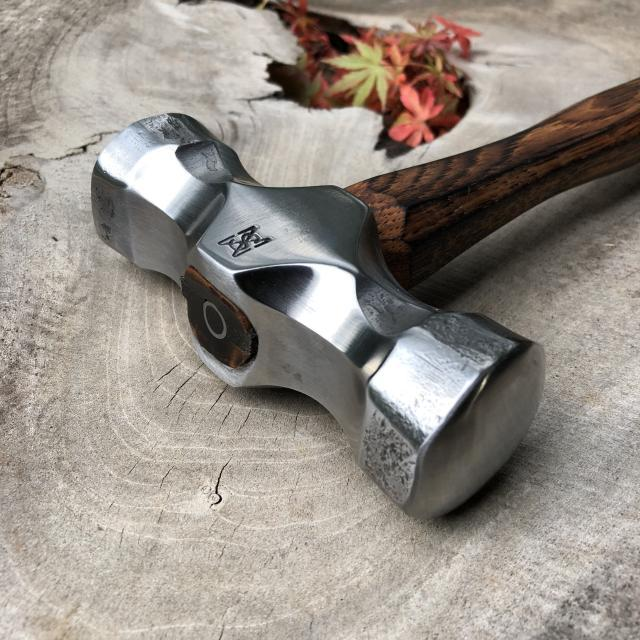hammer: (80, 68, 640, 530)
